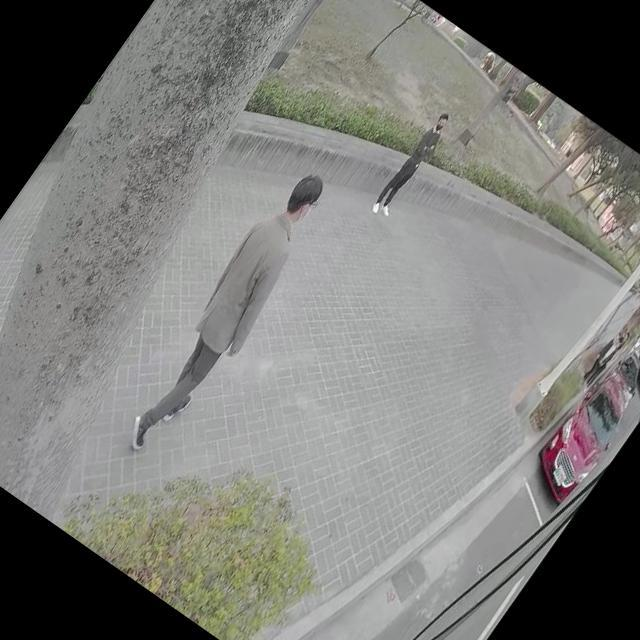person: (109, 160, 348, 466), (368, 107, 454, 221), (580, 326, 624, 380)
